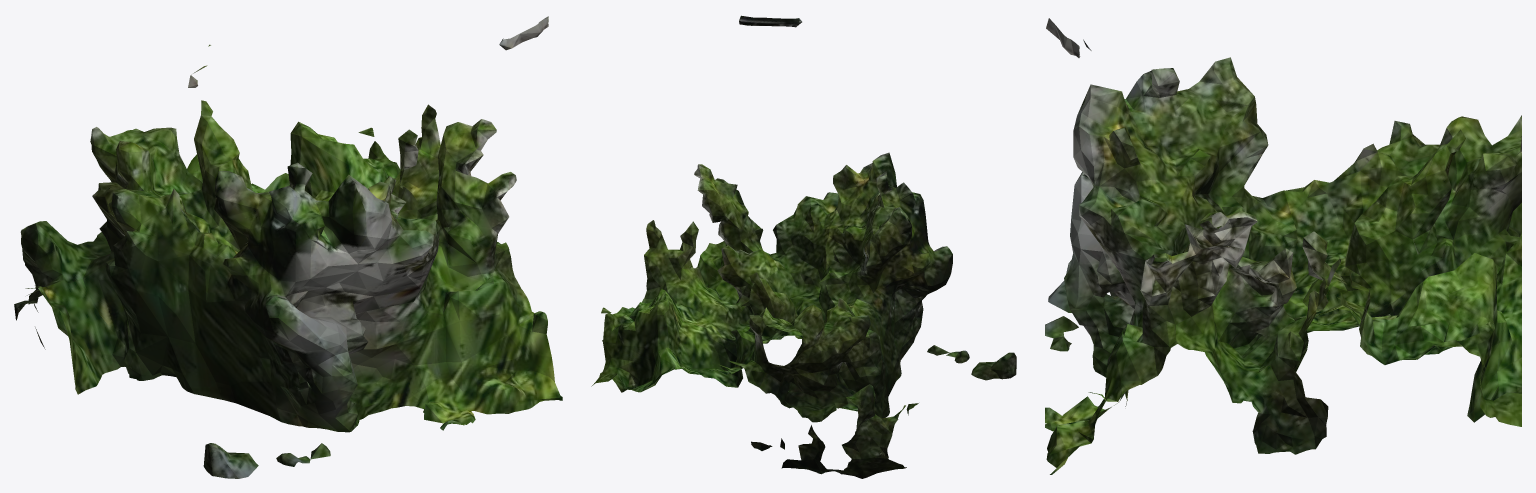
The picture shows the model from 3 angles, left to right: view 1: azimuth 30°, elevation 25°; view 2: azimuth 150°, elevation 25°; view 3: azimuth 270°, elevation 25°; orthographic projection. The views are drawn at different scales.
Bounding box in the file's own units: 3.35 × 3.35 × 3.35.
Materials: 6 (6 with a texture image).
